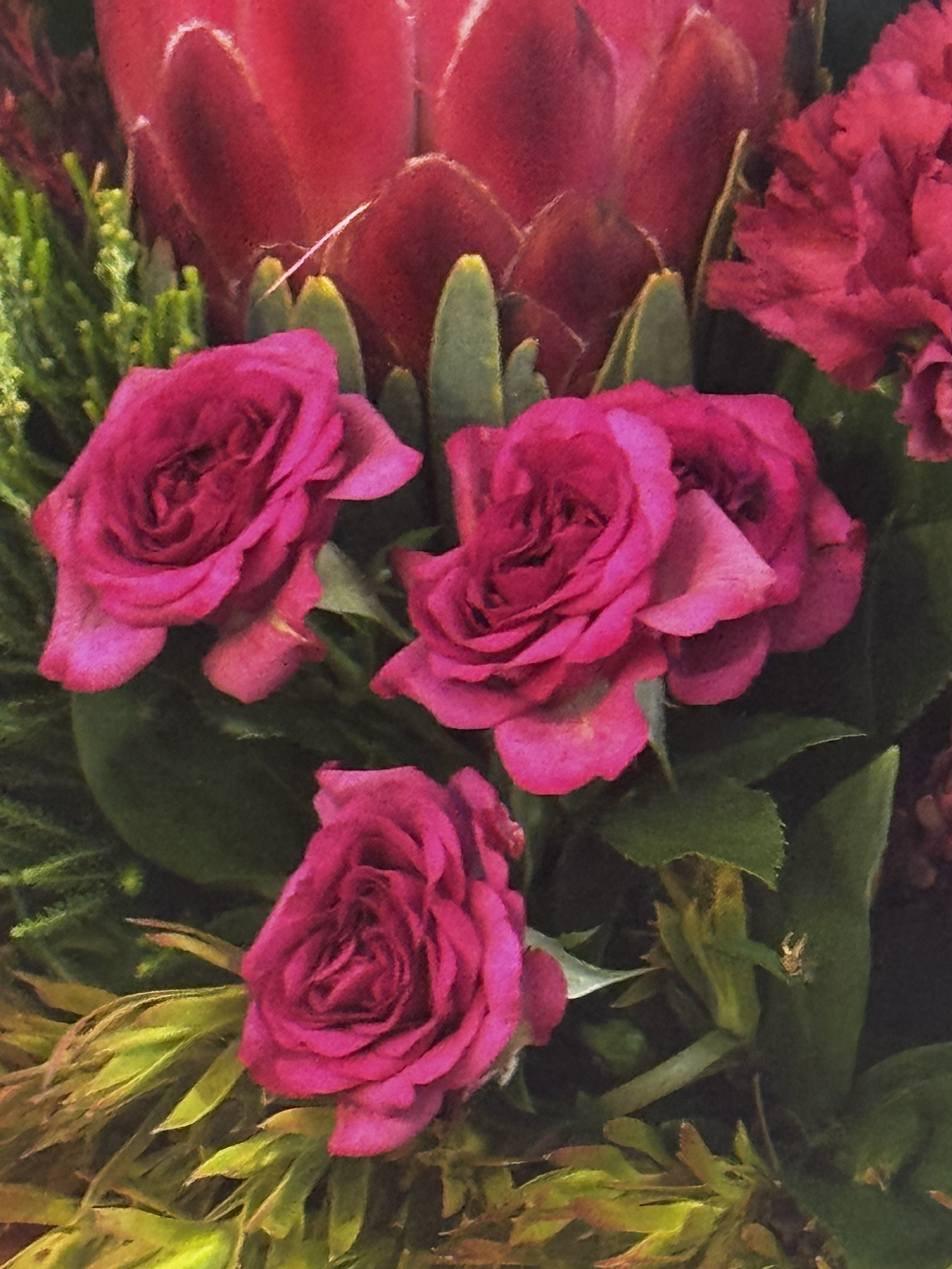rose: (383, 373, 873, 807), (27, 318, 424, 717), (224, 754, 570, 1166)
